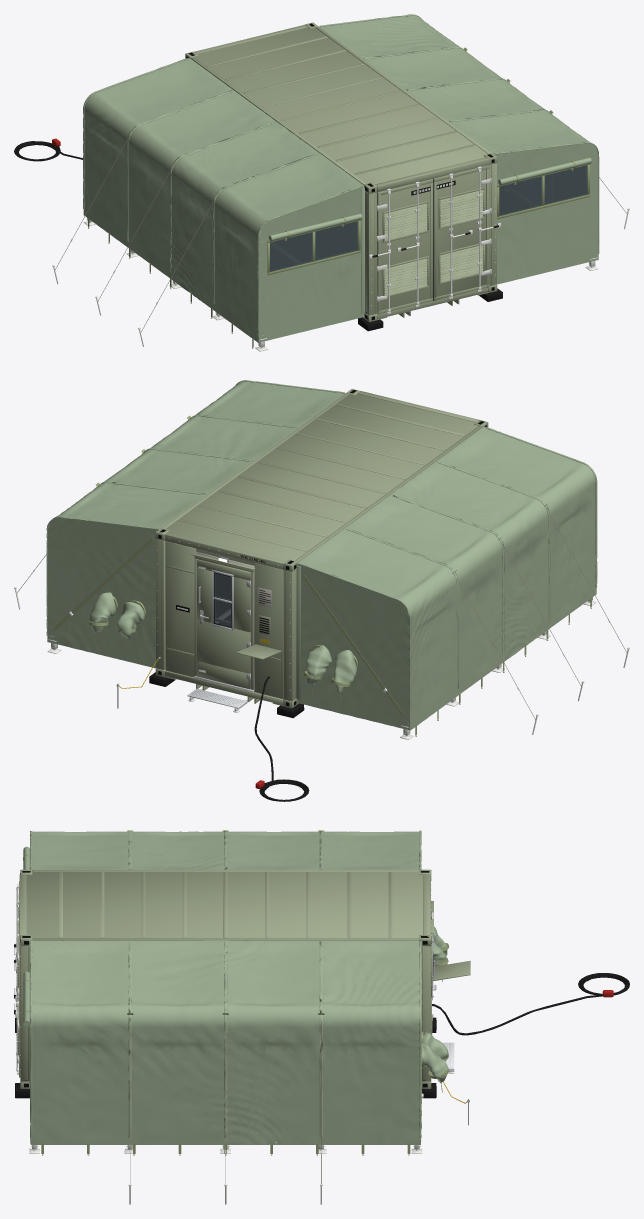
File: mecc-camp.glb
3 renders of one model, top to bottom at view 1: azimuth 30°, elevation 25°; view 2: azimuth 150°, elevation 25°; view 3: azimuth 270°, elevation 25°, orthographic. The views are drawn at different scales.
Visible parts, largest first — view 1: MECC_expansion_L, MECC_core, MECC_expansion_R, MECC_site_kit; view 2: MECC_expansion_L, MECC_core, MECC_expansion_R, MECC_site_kit; view 3: MECC_expansion_R, MECC_core, MECC_expansion_L, MECC_site_kit.
Boxes of the visible parts, <box> form: MECC_expansion_L: <box>52,58,364,351</box>; MECC_core: <box>185,22,502,331</box>; MECC_expansion_R: <box>319,14,629,284</box>; MECC_site_kit: <box>14,138,82,161</box>; MECC_expansion_L: <box>296,427,629,739</box>; MECC_core: <box>149,389,488,718</box>; MECC_expansion_R: <box>14,380,345,668</box>; MECC_site_kit: <box>116,657,309,801</box>; MECC_expansion_R: <box>23,940,449,1204</box>; MECC_core: <box>14,869,470,1098</box>; MECC_expansion_L: <box>23,830,448,981</box>; MECC_site_kit: <box>432,973,629,1125</box>.
Size of the model in its own units: 9.34 by 2.86 by 9.08.
